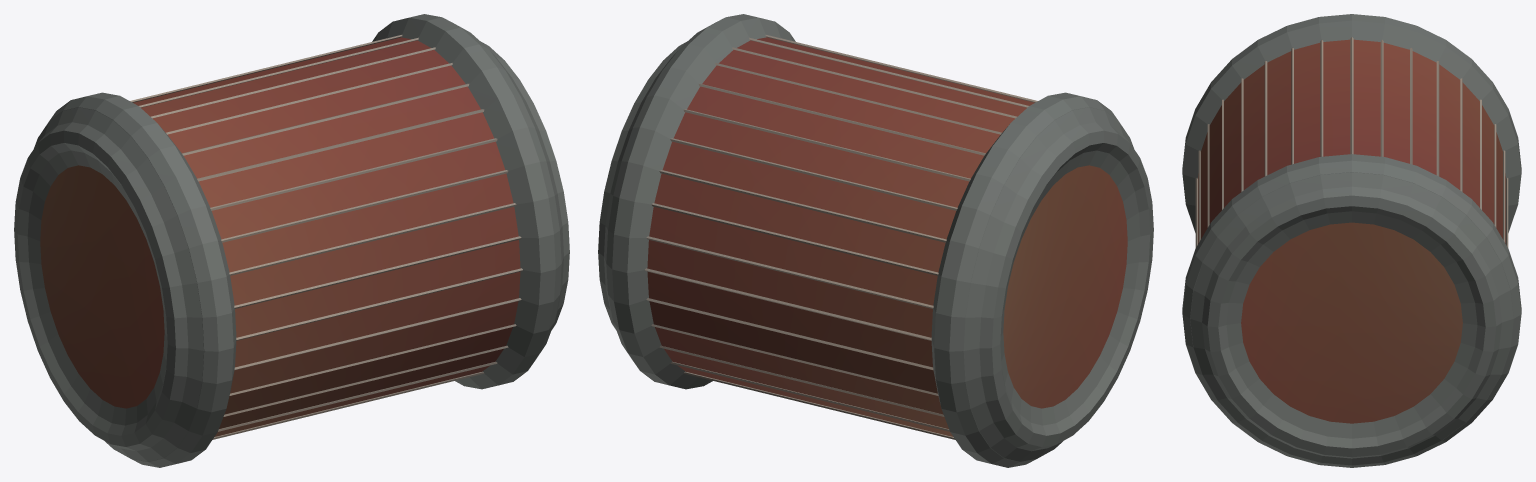
File: Baroll.fbx
3 renders of one model, left to right at view 1: azimuth 30°, elevation 25°; view 2: azimuth 150°, elevation 25°; view 3: azimuth 270°, elevation 25°, orthographic. The views are drawn at different scales.
Visible parts, largest first — view 1: Wireframe; view 2: Wireframe; view 3: Wireframe.
Part boxes in pixels (x1,y1,x2,y2): Wireframe: (14,14,569,467); Wireframe: (598,14,1153,467); Wireframe: (1182,14,1521,467).
Bounding box in the file's own units: 266 × 220 × 220.
